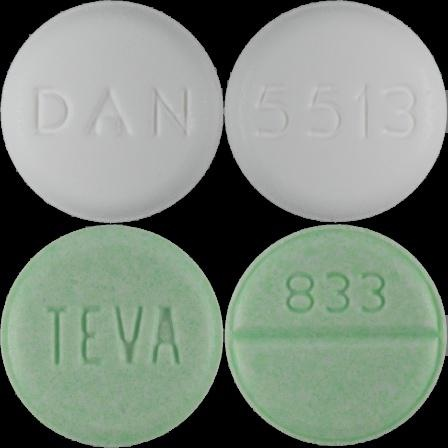35356-721: (0, 0, 224, 224)
